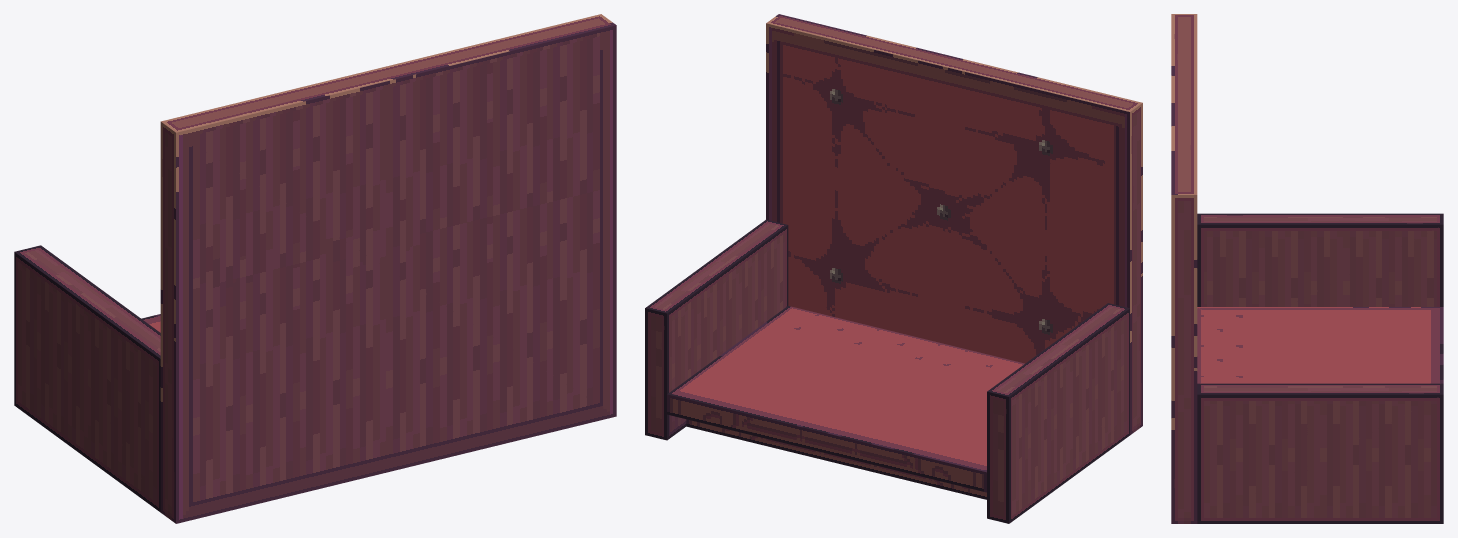
File: bench.glb
3 renders of one model, left to right at view 1: azimuth 30°, elevation 25°; view 2: azimuth 150°, elevation 25°; view 3: azimuth 270°, elevation 25°, orthographic. The views are drawn at different scales.
Visible parts, largest first — view 1: cuboid (×2); view 2: cuboid (×5); view 3: cuboid (×4).
Boxes of the visible parts, x1=… form: cuboid (×2): x1=14, y1=14, x2=616, y2=523; cuboid (×5): x1=645, y1=14, x2=1142, y2=523; cuboid (×4): x1=1171, y1=14, x2=1443, y2=523.
Bounding box in the file's own units: 2.06 × 1.75 × 1.31.
1 material, 1 textured.
